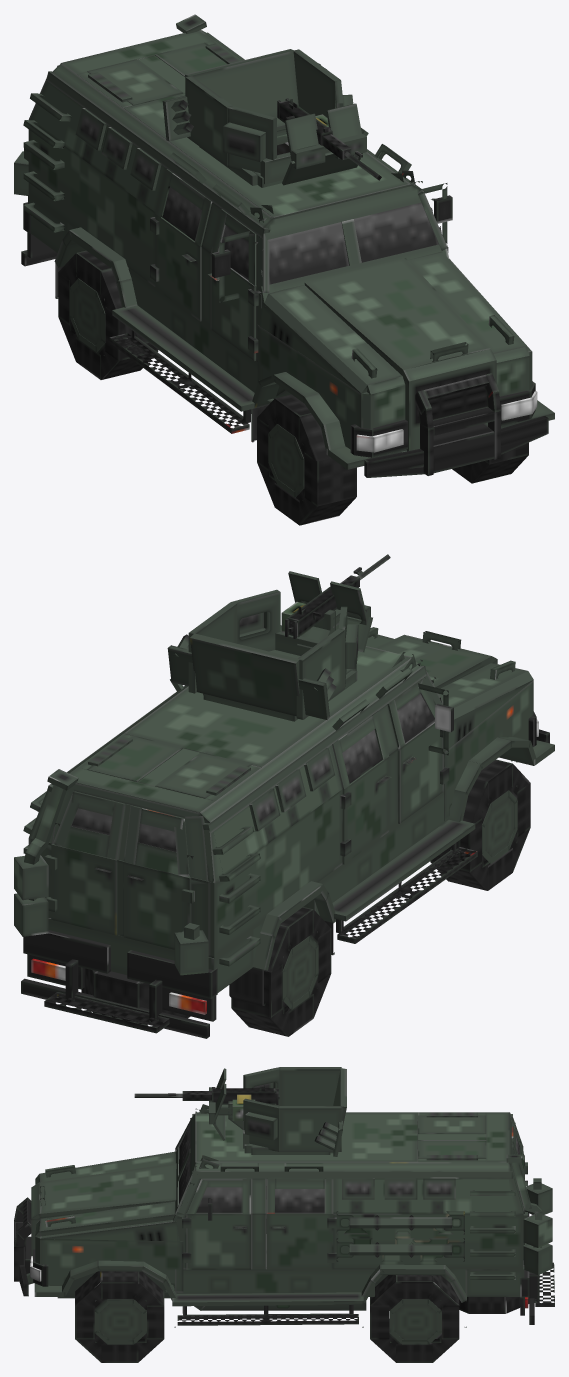
The model's file is btr.fbx.
The picture shows the model from 3 angles, top to bottom: view 1: azimuth 30°, elevation 25°; view 2: azimuth 150°, elevation 25°; view 3: azimuth 270°, elevation 25°; orthographic projection. The views are drawn at different scales.
Parts seen in each view (by area): view 1: [Imported]_$body, [Imported]_$weapon0, [Imported]_door4_1, [Imported]_door3_4, [Imported]_shgona3_2, [Imported]_whell2_7, [Imported]_whell3_7, [Imported]_door4_6, [Imported]_shgona3_4, [Imported]_shgona3_5, [Imported]_shgona3_3, [Imported]_shgona4_5 (+7 smaller); view 2: [Imported]_$body, [Imported]_$weapon0, [Imported]_zaddoor_1, [Imported]_zaddoor2_1, [Imported]_door4_1, [Imported]_door3_4, [Imported]_whell2_7, [Imported]_whell3_7, [Imported]_door4_6, [Imported]_shgona4_7, [Imported]_door3_7, [Imported]_m2krutit_16 (+20 smaller); view 3: [Imported]_$body, [Imported]_$weapon0, [Imported]_door2_1, [Imported]_door_4, [Imported]_whell1_7, [Imported]_whell4_7, [Imported]_door2_6, [Imported]_shgona6_5, [Imported]_door_7, [Imported]_shgona5_5, [Imported]_shgona6_4, [Imported]_shgona6_6 (+13 smaller).
Boxes of the visible parts, x1,y1,x2,y2 form: [Imported]_$body: (14, 14, 554, 477); [Imported]_$weapon0: (162, 49, 366, 185); [Imported]_door4_1: (155, 214, 201, 321); [Imported]_door3_4: (210, 255, 256, 360); [Imported]_shgona3_2: (304, 452, 356, 506); [Imported]_whell2_7: (269, 419, 303, 500); [Imported]_whell3_7: (70, 285, 104, 355); [Imported]_door4_6: (161, 187, 201, 240); [Imported]_shgona3_4: (295, 414, 330, 461); [Imported]_shgona3_5: (274, 394, 311, 439); [Imported]_shgona3_3: (296, 489, 356, 525); [Imported]_shgona4_5: (76, 250, 110, 294); [Imported]_$body: (14, 625, 554, 1038); [Imported]_$weapon0: (167, 571, 372, 719); [Imported]_zaddoor_1: (51, 843, 117, 935); [Imported]_zaddoor2_1: (124, 862, 190, 949); [Imported]_door4_1: (342, 757, 389, 864); [Imported]_door3_4: (398, 722, 443, 823); [Imported]_whell2_7: (482, 785, 517, 867); [Imported]_whell3_7: (283, 931, 317, 1013); [Imported]_door4_6: (342, 729, 383, 783); [Imported]_shgona4_7: (231, 964, 282, 1017); [Imported]_door3_7: (397, 677, 434, 742); [Imported]_m2krutit_16: (287, 587, 337, 637); [Imported]_$body: (14, 1104, 554, 1327); [Imported]_$weapon0: (209, 1067, 346, 1156); [Imported]_door2_1: (266, 1213, 333, 1269); [Imported]_door_4: (186, 1213, 250, 1269); [Imported]_whell1_7: (95, 1300, 146, 1342); [Imported]_whell4_7: (390, 1300, 441, 1342); [Imported]_door2_6: (275, 1189, 324, 1213); [Imported]_shgona6_5: (101, 1271, 138, 1299); [Imported]_door_7: (196, 1187, 242, 1213); [Imported]_shgona5_5: (396, 1275, 432, 1299); [Imported]_shgona6_4: (75, 1271, 106, 1310); [Imported]_shgona6_6: (134, 1271, 164, 1310).
Bounding box in the file's own units: 307 × 392 × 791.
1 material, 1 textured.
